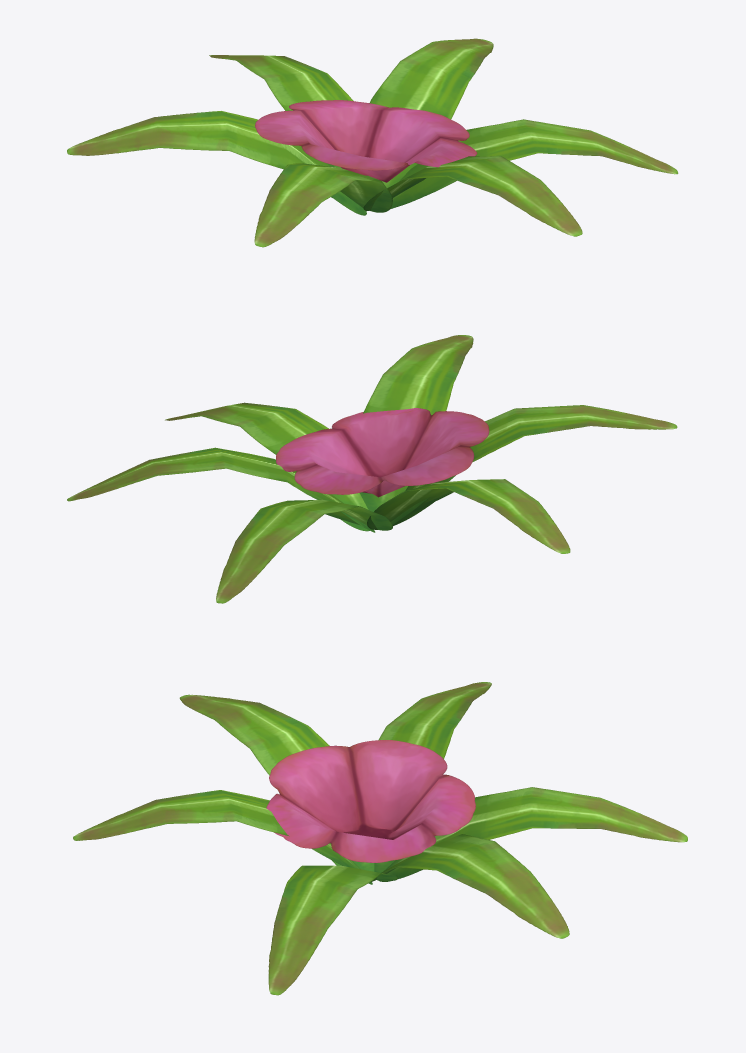
The model's file is bunga 5.fbx.
3 views of the same model, one above another, from view 1: azimuth 30°, elevation 25°; view 2: azimuth 150°, elevation 25°; view 3: azimuth 270°, elevation 25° (orthographic).
Visible parts, largest first — view 1: Bunga 5; view 2: Bunga 5; view 3: Bunga 5.
Boxes of the visible parts, bbox=[...] form: Bunga 5: bbox=[67, 38, 678, 247]; Bunga 5: bbox=[67, 335, 677, 603]; Bunga 5: bbox=[73, 682, 687, 995].
Bounding box in the file's own units: 311 × 54.29 × 309.
Materials: 1 (1 with a texture image).
